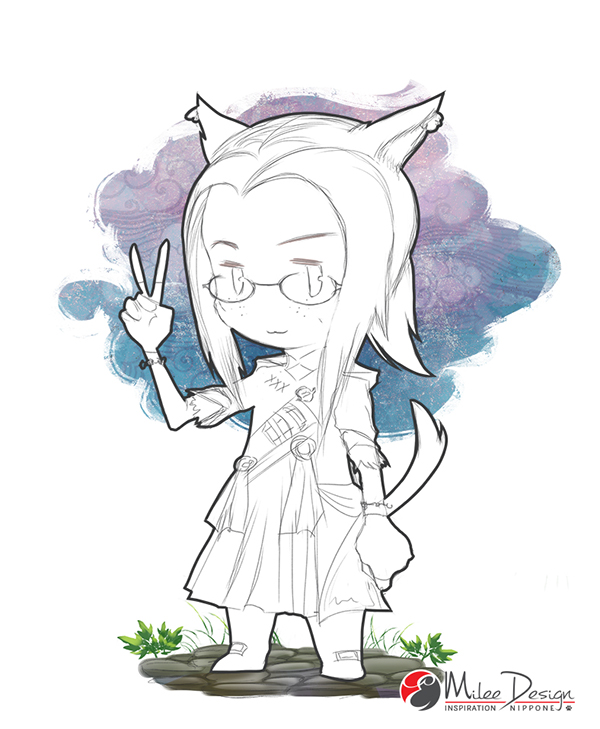person: (84, 69, 462, 701)
